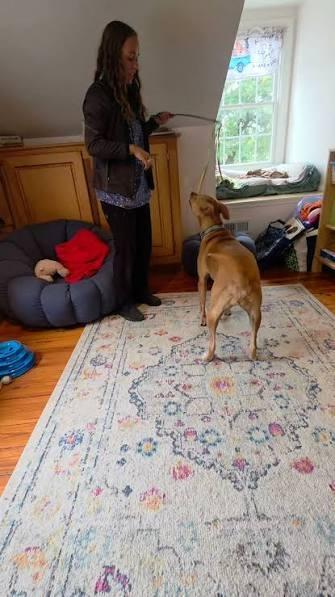adult_dog: (187, 192, 264, 366)
